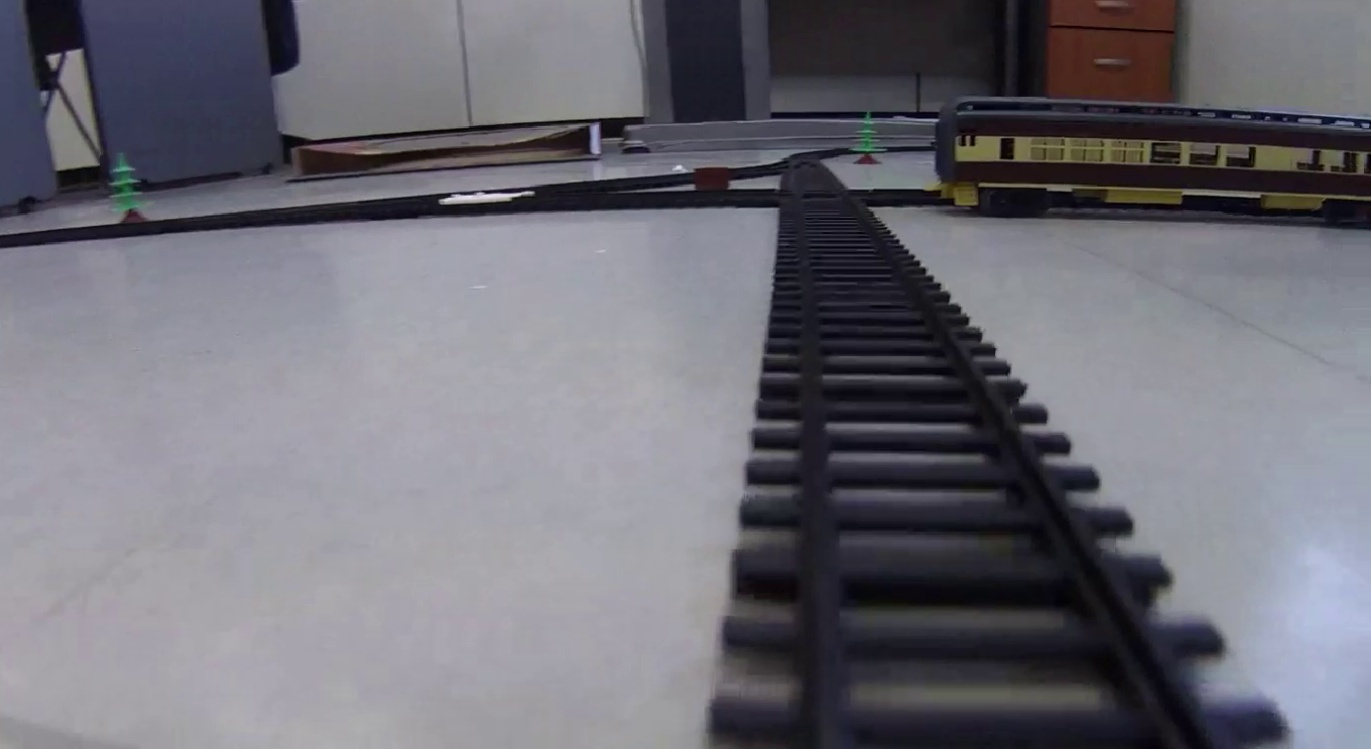tree: (105, 150, 156, 223)
